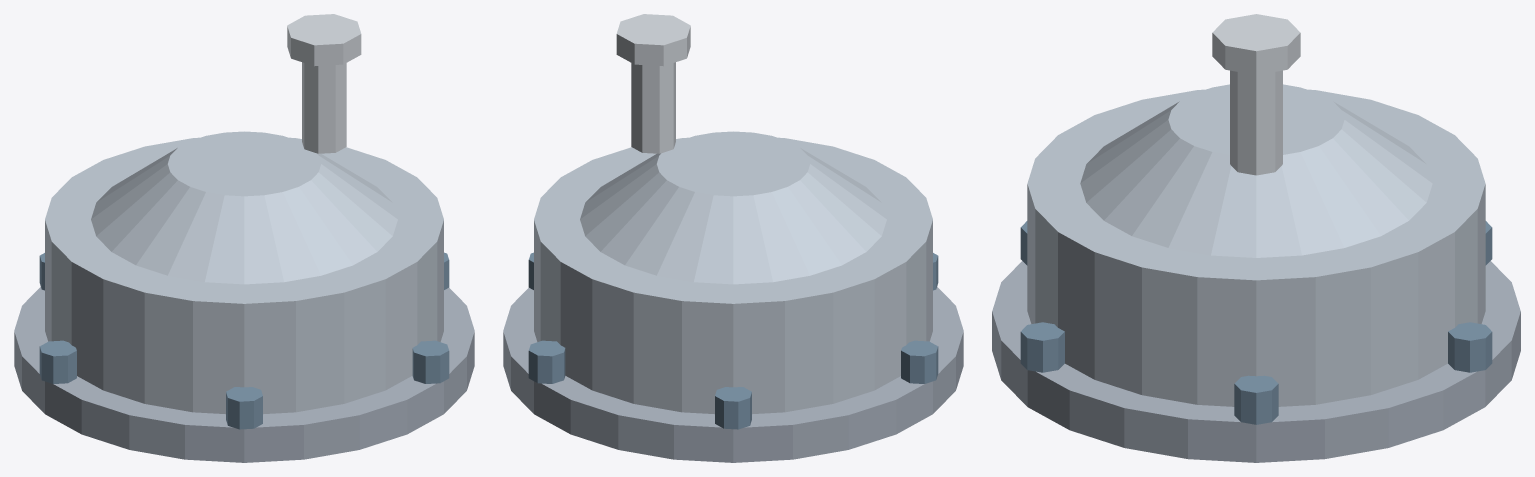
Rendered from cap.fbx.
3 views of the same model, side by side, from view 1: azimuth 30°, elevation 25°; view 2: azimuth 150°, elevation 25°; view 3: azimuth 270°, elevation 25° (orthographic). The views are drawn at different scales.
Visible parts, largest first — view 1: cap_body, cap_dome, flange, vent, vent_top, bolt_3, bolt_5, bolt_4; view 2: cap_body, cap_dome, flange, vent, vent_top, bolt_3, bolt_1, bolt_2; view 3: cap_body, cap_dome, flange, vent, vent_top, bolt_1, bolt_5, bolt_0.
Part boxes in pixels (x1,y1,x2,y2): cap_body: (45,137,443,414); cap_dome: (91,131,397,284); flange: (14,287,474,462); vent: (302,62,346,153); vent_top: (287,14,361,66); bolt_3: (39,340,76,383); bolt_5: (412,340,449,383); bolt_4: (226,387,262,429); cap_body: (534,137,932,414); cap_dome: (580,131,886,284); flange: (503,287,963,462); vent: (631,62,675,153); vent_top: (616,14,690,66); bolt_3: (901,340,938,383); bolt_1: (528,340,565,383); bolt_2: (715,387,751,429); cap_body: (1027,89,1485,406); cap_dome: (1080,84,1432,257); flange: (992,261,1520,462); vent: (1230,70,1282,175); vent_top: (1212,14,1300,74); bolt_1: (1448,322,1492,372); bolt_5: (1020,322,1064,372); bolt_0: (1234,375,1278,424).
Size of the model in its own units: 0.61 by 0.455 by 0.6.
